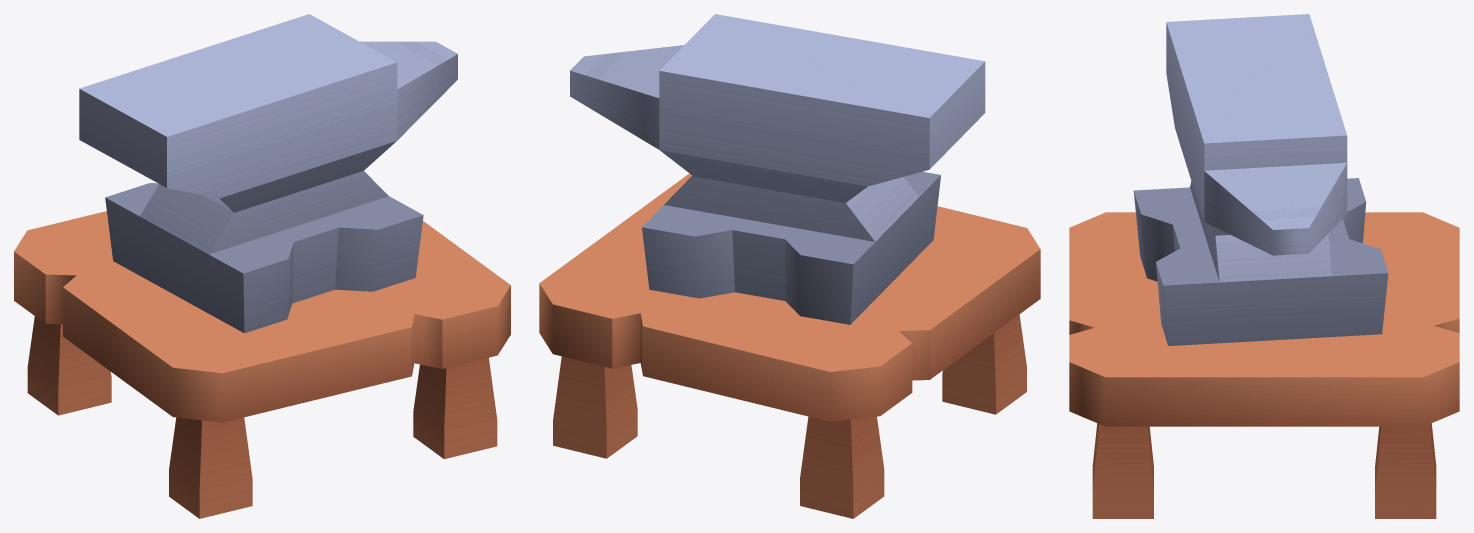
File: workbench-anvil_lev3.glb
3 views of the same model, side by side, from view 1: azimuth 30°, elevation 25°; view 2: azimuth 150°, elevation 25°; view 3: azimuth 270°, elevation 25° (orthographic).
Visible parts, largest first — view 1: workbench-anvil_lev3; view 2: workbench-anvil_lev3; view 3: workbench-anvil_lev3.
Part boxes in pixels (x1,y1,x2,y2): workbench-anvil_lev3: [14, 14, 510, 518]; workbench-anvil_lev3: [539, 14, 1040, 518]; workbench-anvil_lev3: [1069, 14, 1459, 518].
Bounding box in the file's own units: 3.62 × 3.31 × 3.31.
Materials: 1 (1 with a texture image).
